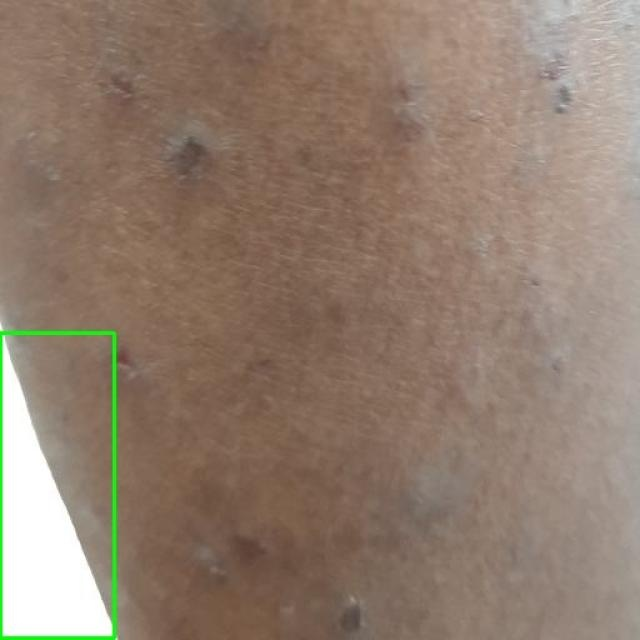Atopic Dermatitis: (0, 334, 115, 639)
